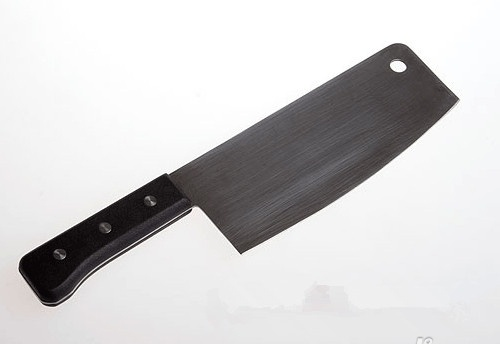knief: (18, 27, 458, 306)
